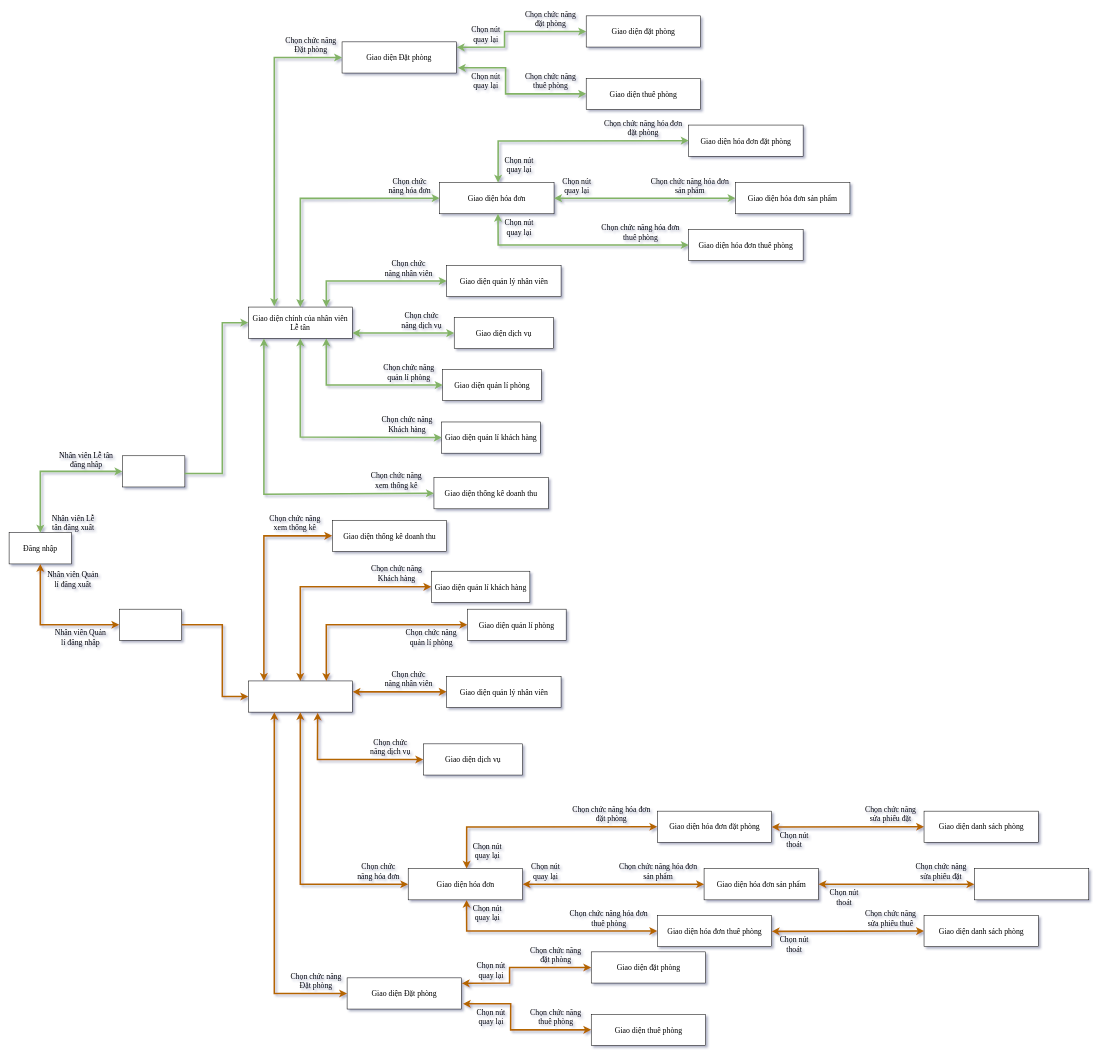
The diagram is 1101 pixels wide and 1058 high, and some of its shapes have lost their labels. Here are the shapes that lost their labels. From the top down, the centre of each, then its label:
At point (153, 471): "Nhân viên Lễ tân Đăng nhập".
At point (150, 624): "Nhân viên Quản lí Đăng nhập".
At point (300, 696): "Giao diện chính của nhân viên Quản lí".
At point (1031, 884): "Giao diện danh sách sản phẩm".
